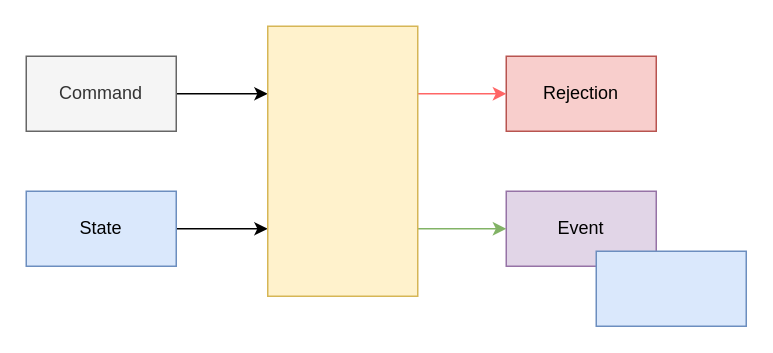
Some shapes in this 773 by 353 pixel diagram are drawn without their labels. Here are the shapes that lost their labels. From the top down, the centre of each, then its label:
At [342,160]: "Evaluation".
At [670,288]: "New state".
